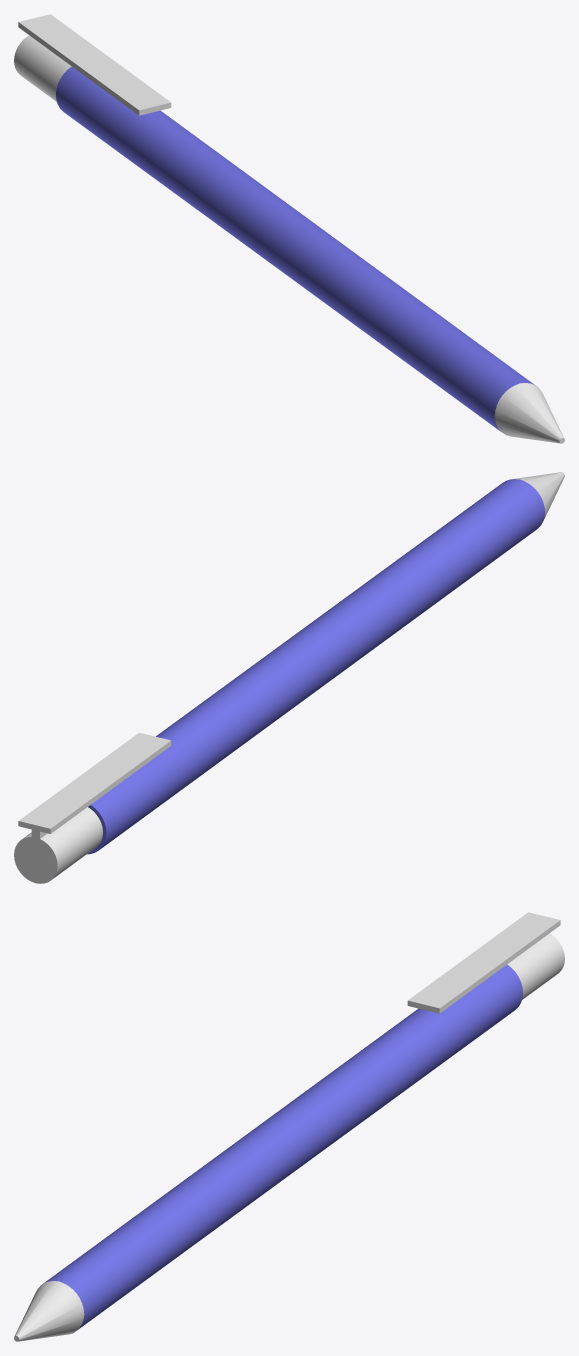
File: pen.glb
The picture shows the model from 3 angles, top to bottom: view 1: azimuth 30°, elevation 25°; view 2: azimuth 150°, elevation 25°; view 3: azimuth 330°, elevation 25°; orthographic projection.
Visible parts, largest first — view 1: Cylinder; view 2: Cylinder; view 3: Cylinder.
Boxes of the visible parts, x1,y1,x2,y2 form: Cylinder: [14, 14, 564, 443]; Cylinder: [14, 472, 564, 883]; Cylinder: [14, 912, 564, 1341].
Size of the model in its own units: 0.0117 by 0.0138 by 0.2102.
